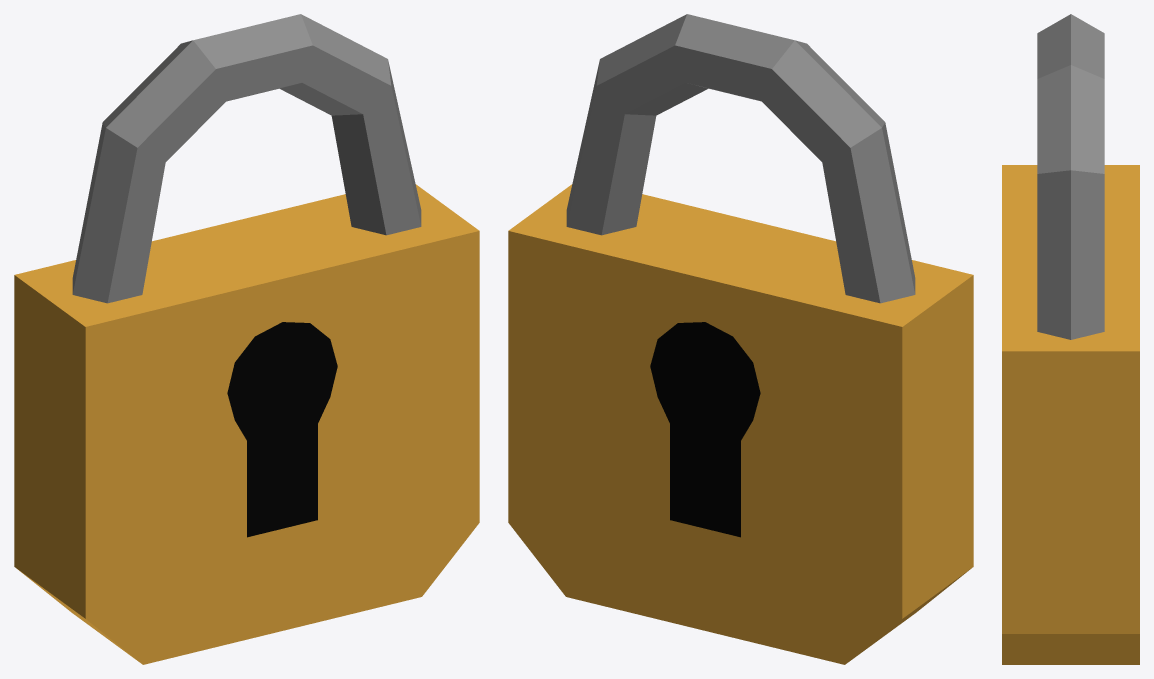
File: lock.fbx
3 renders of one model, left to right at view 1: azimuth 30°, elevation 25°; view 2: azimuth 150°, elevation 25°; view 3: azimuth 270°, elevation 25°, orthographic. The views are drawn at different scales.
Parts seen in each view (by area): view 1: Cube, Torus; view 2: Cube, Torus; view 3: Cube, Torus.
Boxes of the visible parts, box(x1,y1,x2,y2) form: Cube: box(14, 184, 479, 664); Torus: box(72, 14, 421, 303); Cube: box(508, 184, 973, 664); Torus: box(566, 14, 915, 303); Cube: box(1002, 165, 1139, 664); Torus: box(1037, 14, 1104, 339).
Size of the model in its own units: 283 by 396 by 88.39.
